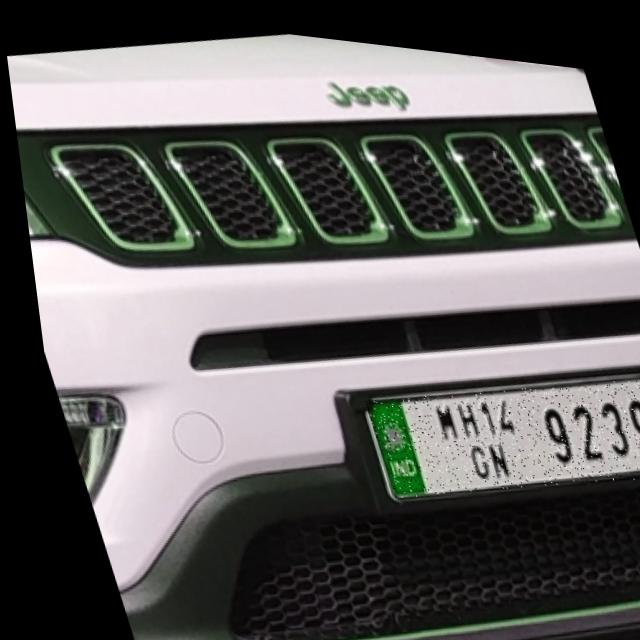license_plate: (349, 334, 640, 518)
